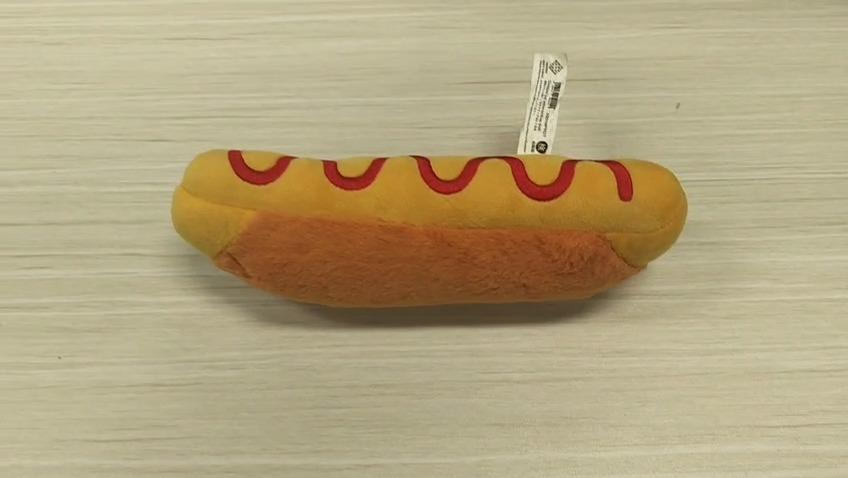hotdog: (170, 146, 688, 309)
